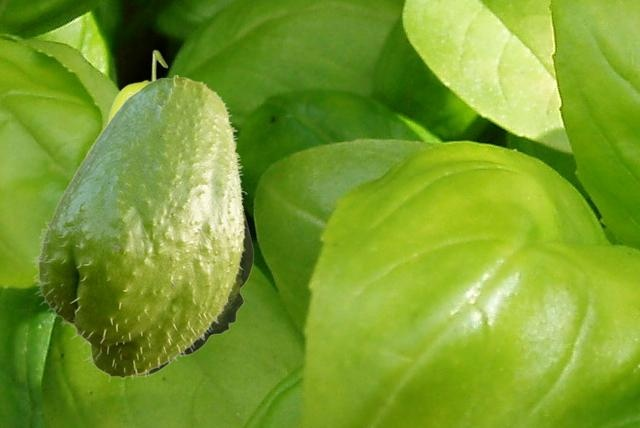sayote: (31, 75, 246, 381), (89, 49, 253, 376)
